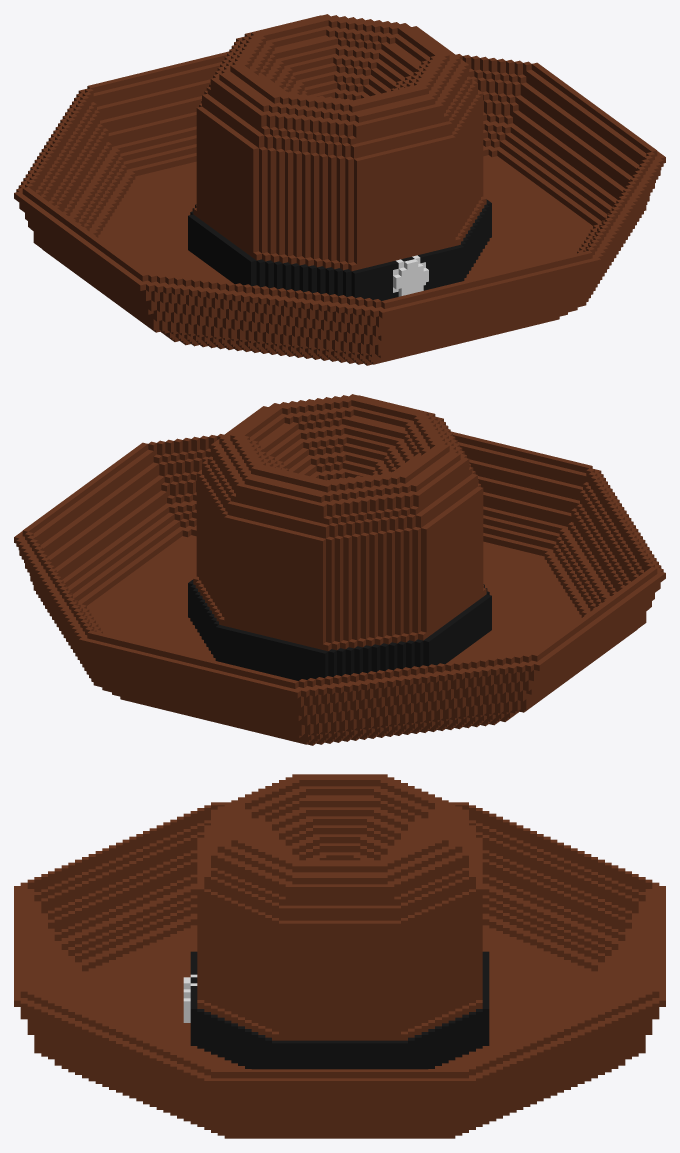
Rendered from cowboy_hat.glb.
3 renders of one model, top to bottom at view 1: azimuth 30°, elevation 25°; view 2: azimuth 150°, elevation 25°; view 3: azimuth 270°, elevation 25°, orthographic. The views are drawn at different scales.
Parts seen in each view (by area): view 1: cowboy_hat:compound; view 2: cowboy_hat:compound; view 3: cowboy_hat:compound.
Part boxes in pixels (left/top/right/bottom): cowboy_hat:compound: left=14, top=14, right=665, bottom=365; cowboy_hat:compound: left=14, top=394, right=665, bottom=745; cowboy_hat:compound: left=14, top=774, right=665, bottom=1138.
Bounding box in the file's own units: 0.384 × 0.136 × 0.384.
